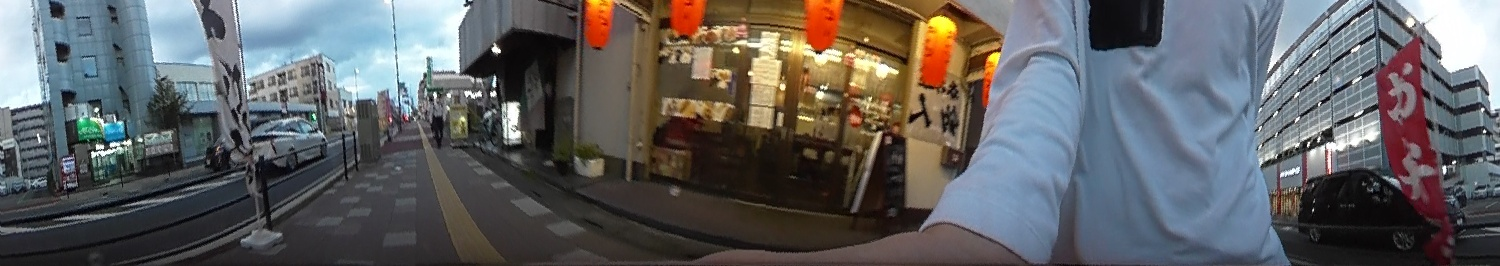person: (430, 90, 445, 146)
